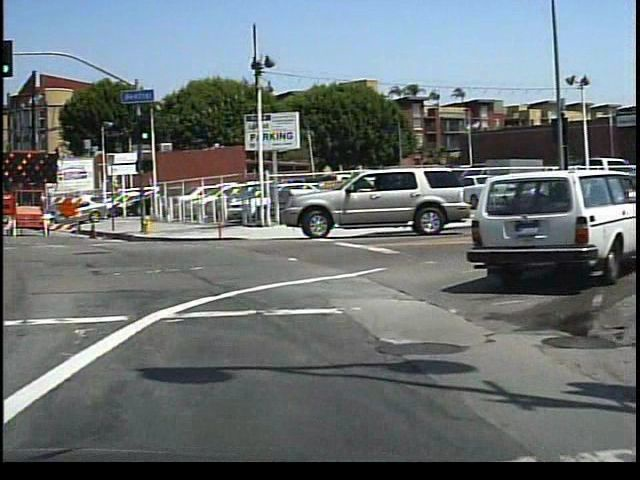person: (567, 162, 587, 205)
